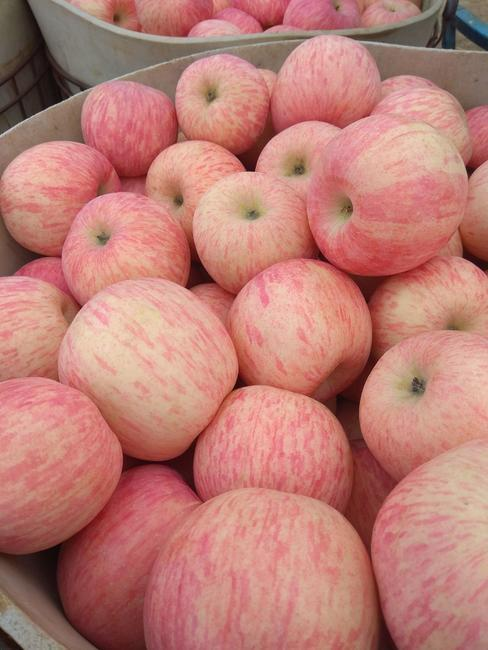apple: (142, 484, 380, 650), (54, 278, 241, 459), (305, 110, 469, 275), (1, 377, 124, 557), (191, 381, 351, 511), (227, 258, 373, 398), (359, 327, 487, 479), (193, 170, 320, 292), (1, 136, 121, 253), (58, 191, 188, 299), (268, 32, 381, 132), (81, 75, 177, 177), (176, 53, 270, 156)
